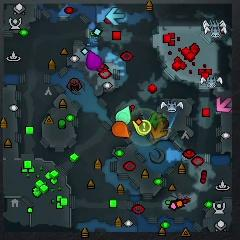p2: (115, 106, 134, 124)
p3: (86, 50, 103, 71)
p4: (132, 120, 150, 134)
p5: (112, 121, 129, 138)
x1: (216, 97, 233, 114)
x3: (108, 7, 125, 25)
x4: (148, 113, 166, 129)
x5: (150, 122, 168, 141)
